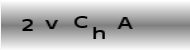2: (20, 18, 35, 32)
A: (116, 15, 135, 31)
C: (73, 15, 88, 29)
h: (91, 26, 106, 40)
v: (45, 18, 59, 30)
